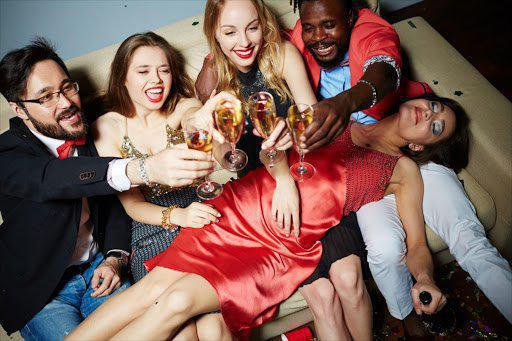Drunk: (30, 62, 86, 141), (215, 2, 265, 69), (297, 4, 347, 68), (129, 47, 176, 111), (402, 99, 455, 141)
